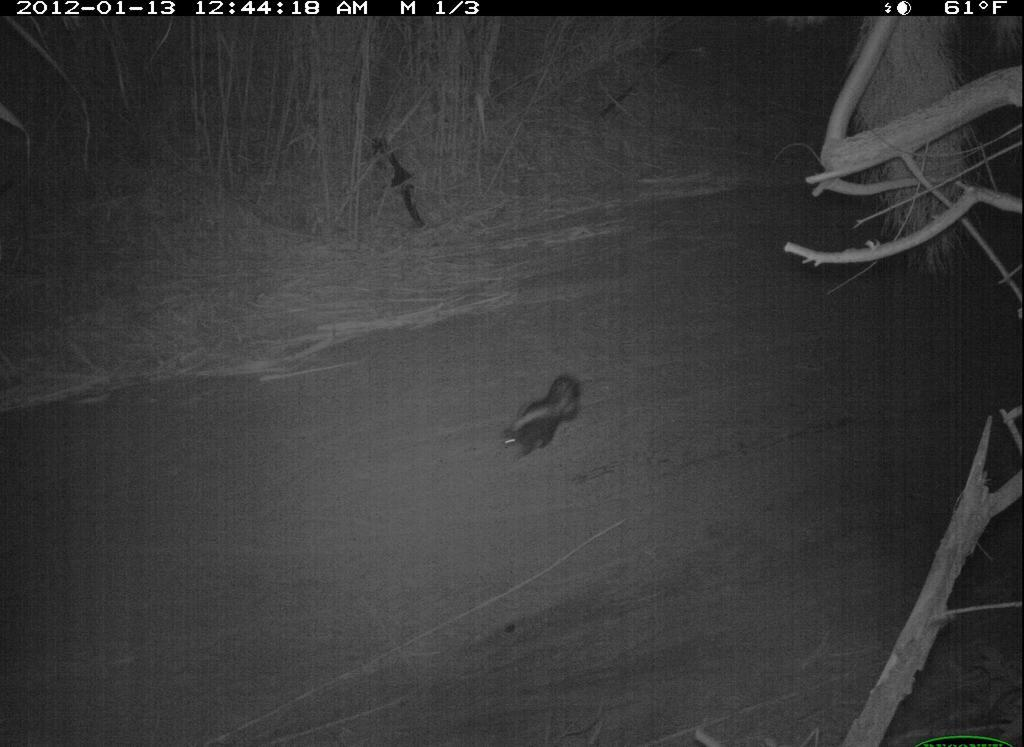skunk: (483, 360, 606, 473)
